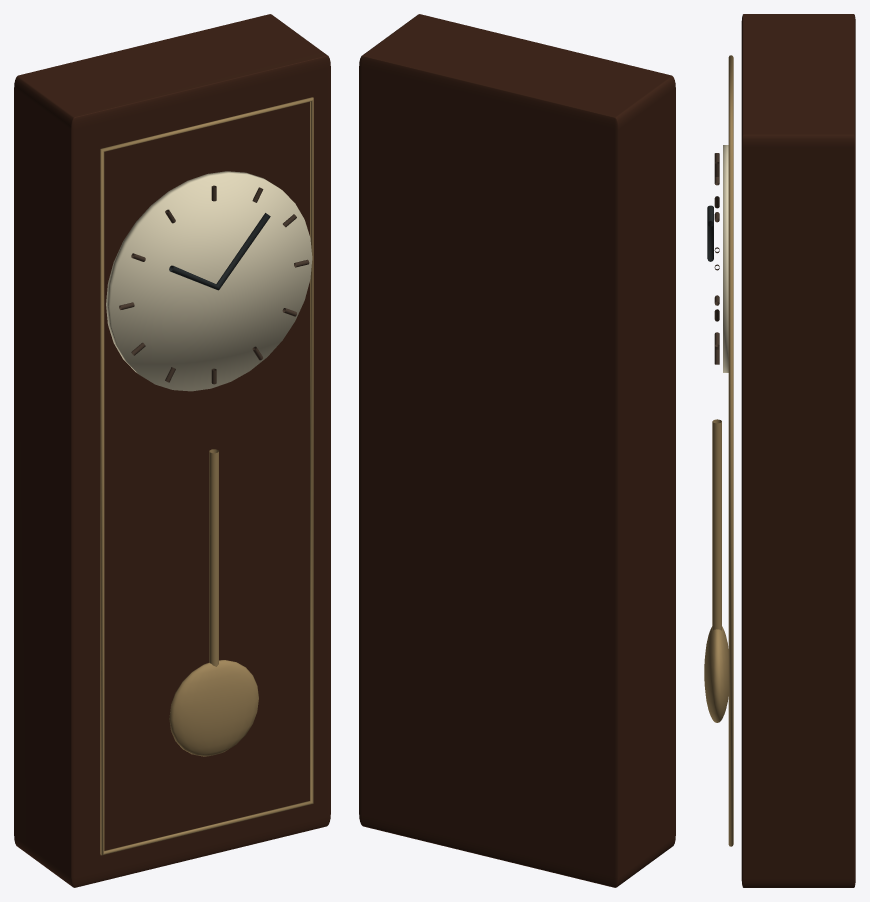
File: Wall_Clock.fbx
The picture shows the model from 3 angles, left to right: view 1: azimuth 30°, elevation 25°; view 2: azimuth 150°, elevation 25°; view 3: azimuth 270°, elevation 25°; orthographic projection. The views are drawn at different scales.
Visible parts, largest first — view 1: Clock case.001, Clock face.001, Panel moulding.114, Pendulum bob.001, Pendulum rod.001, Clock hands.001; view 2: Clock case.001; view 3: Clock case.001, Panel moulding.114, Pendulum rod.001, Pendulum bob.001, Clock face.001, Clock hands.001.
Boxes of the visible parts, <box> form: Clock case.001: <box>14,14,330,887</box>; Clock face.001: <box>106,171,312,391</box>; Panel moulding.114: <box>100,97,313,855</box>; Pendulum bob.001: <box>169,660,258,756</box>; Pendulum rod.001: <box>209,449,218,666</box>; Clock hands.001: <box>169,213,270,290</box>; Clock case.001: <box>359,14,675,887</box>; Clock case.001: <box>741,14,855,887</box>; Panel moulding.114: <box>728,55,733,846</box>; Pendulum rod.001: <box>712,419,721,630</box>; Pendulum bob.001: <box>704,626,728,722</box>; Clock face.001: <box>723,145,728,372</box>; Clock hands.001: <box>707,205,713,261</box>.
Size of the model in its own units: 0.36 by 1.02 by 0.186.
